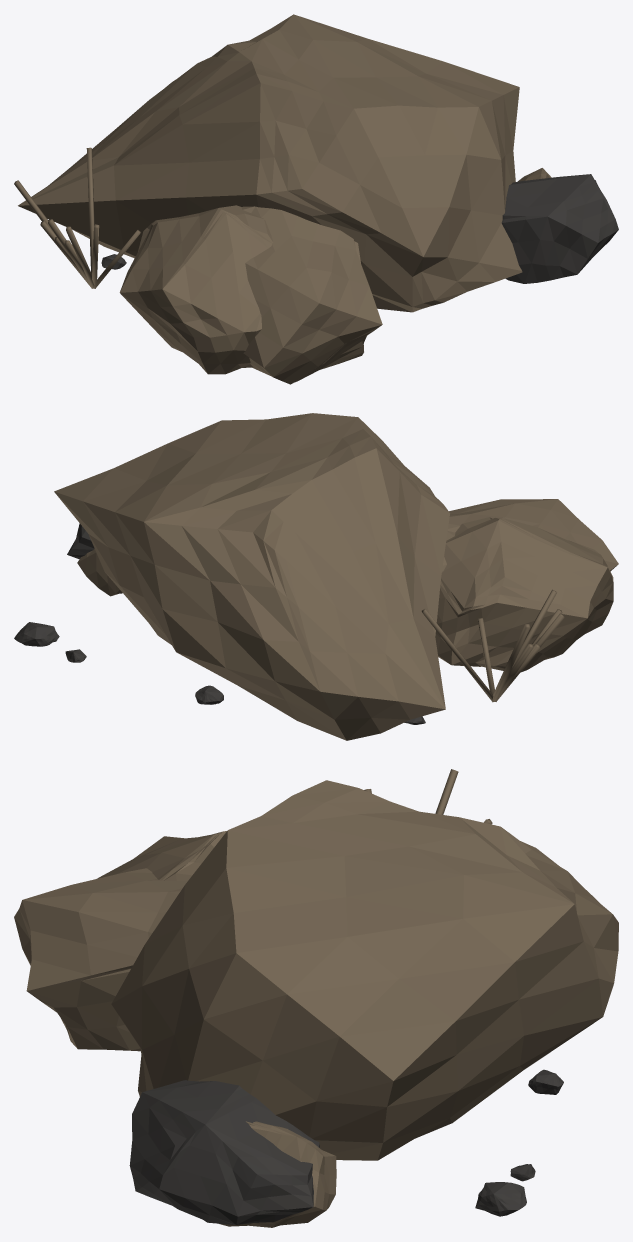
The model's file is cover_rock_10.glb.
3 views of the same model, one above another, from view 1: azimuth 30°, elevation 25°; view 2: azimuth 150°, elevation 25°; view 3: azimuth 270°, elevation 25° (orthographic). The views are drawn at different scales.
Parts seen in each view (by area): view 1: rock_0, rock_4, rock_1, rock_2, weed_4; view 2: rock_0, rock_4, rock_1, rock_3, grit_2, weed_4, weed_6, rock_2, weed_3, weed_1; view 3: rock_0, rock_2, rock_1, rock_3, rock_4, grit_2, grit_0.
Part boxes in pixels (box(x1,y1,x2,y2)): rock_0: box(18, 14, 522, 312); rock_4: box(119, 205, 273, 374); rock_1: box(241, 206, 382, 384); rock_2: box(501, 174, 618, 283); weed_4: box(86, 147, 94, 273); rock_0: box(54, 413, 449, 740); rock_4: box(435, 517, 613, 672); rock_1: box(442, 499, 618, 572); rock_3: box(77, 549, 122, 596); grit_2: box(14, 622, 59, 646); weed_4: box(421, 609, 493, 702); weed_6: box(492, 624, 529, 701); rock_2: box(67, 523, 94, 559); weed_3: box(512, 589, 556, 667); weed_1: box(477, 618, 494, 694); rock_0: box(111, 780, 618, 1160); rock_2: box(129, 1080, 319, 1224); rock_1: box(14, 868, 187, 1051); rock_3: box(219, 1121, 336, 1227); rock_4: box(97, 831, 226, 880); grit_2: box(475, 1182, 526, 1216); grit_0: box(528, 1069, 563, 1094).
Size of the model in its own units: 2.32 by 0.8964 by 1.82.
